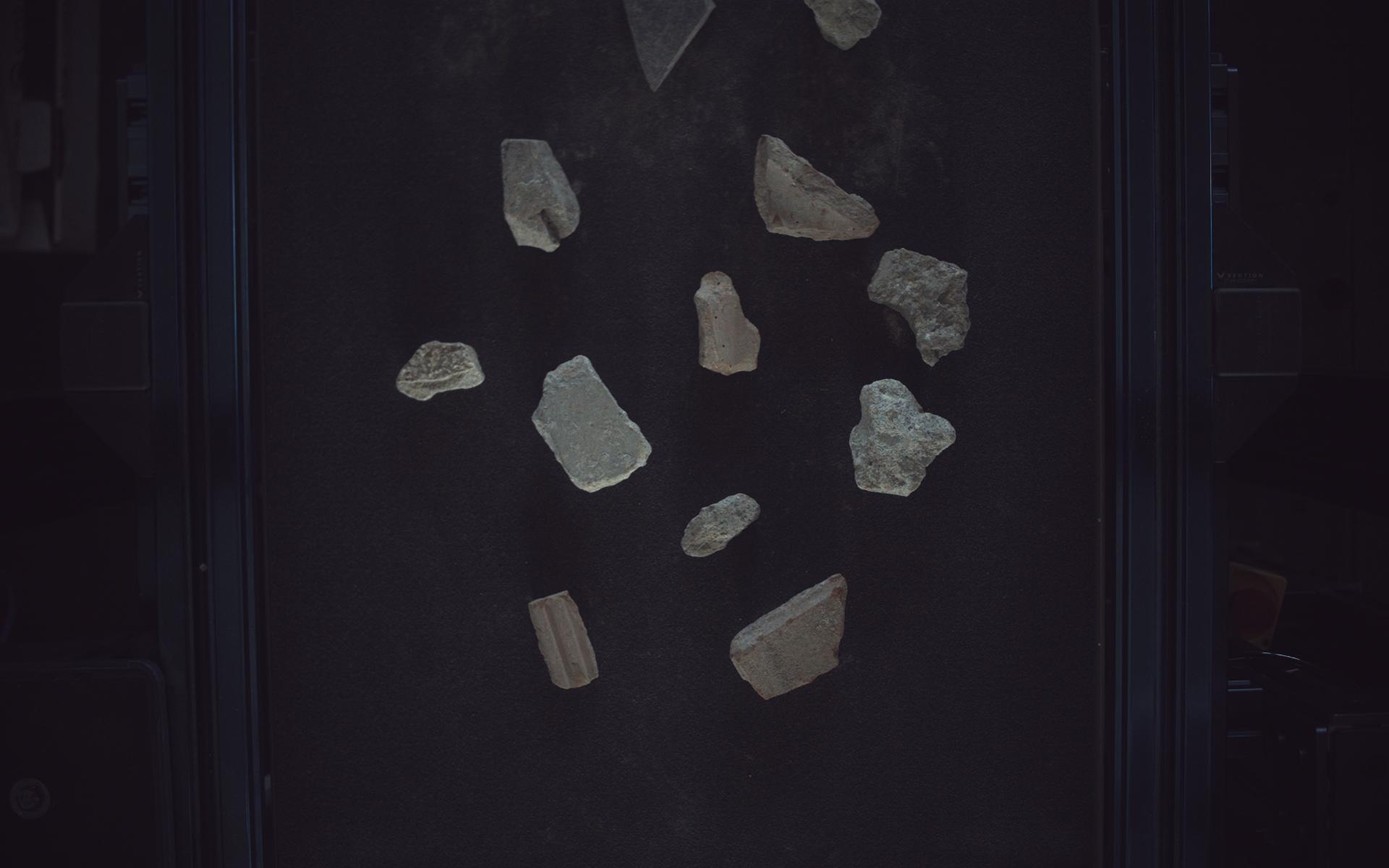brick: (731, 576, 849, 701), (756, 134, 880, 240), (529, 592, 599, 691), (696, 271, 762, 375)
concrete: (851, 378, 958, 497), (870, 247, 972, 365), (501, 138, 580, 251), (396, 341, 485, 401), (682, 493, 761, 558), (807, 1, 883, 48)
tile: (532, 355, 653, 493), (624, 1, 715, 90)
